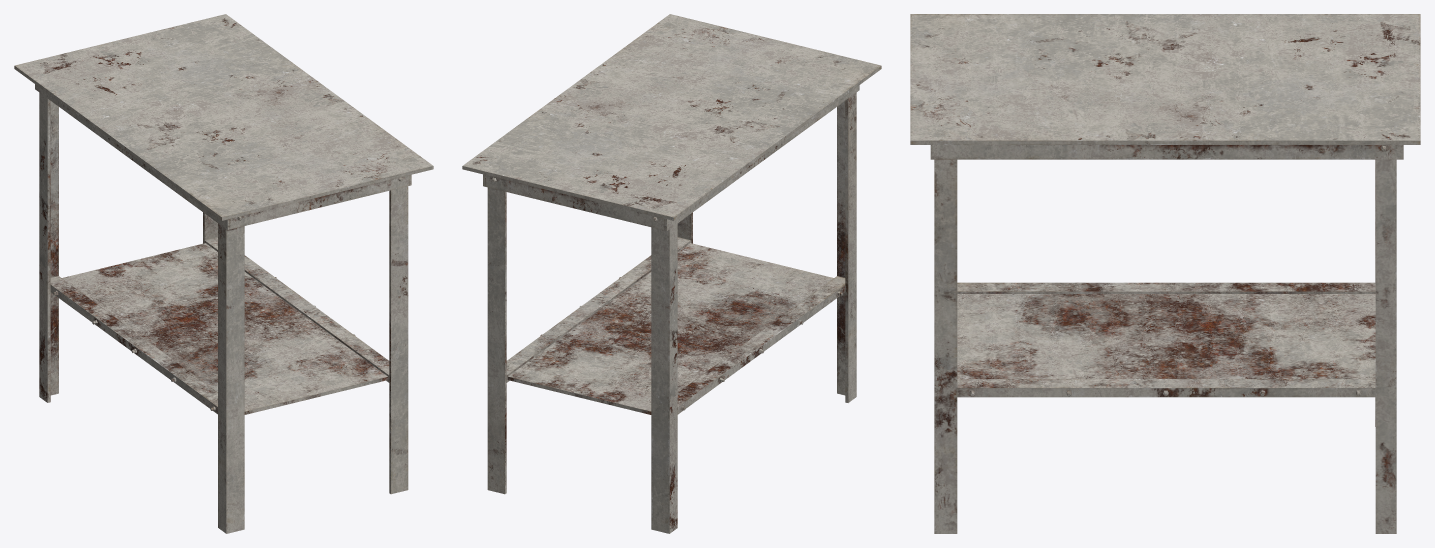
Rendered from SM_MetalTable.fbx.
The picture shows the model from 3 angles, left to right: view 1: azimuth 30°, elevation 25°; view 2: azimuth 150°, elevation 25°; view 3: azimuth 270°, elevation 25°; orthographic projection. The views are drawn at different scales.
Parts seen in each view (by area): view 1: SM_MetalTable_LOD0; view 2: SM_MetalTable_LOD0; view 3: SM_MetalTable_LOD0.
Part boxes in pixels (x1,y1,x2,y2): SM_MetalTable_LOD0: [14, 14, 433, 533]; SM_MetalTable_LOD0: [462, 14, 881, 533]; SM_MetalTable_LOD0: [910, 14, 1420, 533].
Size of the model in its own units: 66.5 by 113 by 98.39.
Materials: 1 (1 with a texture image).
